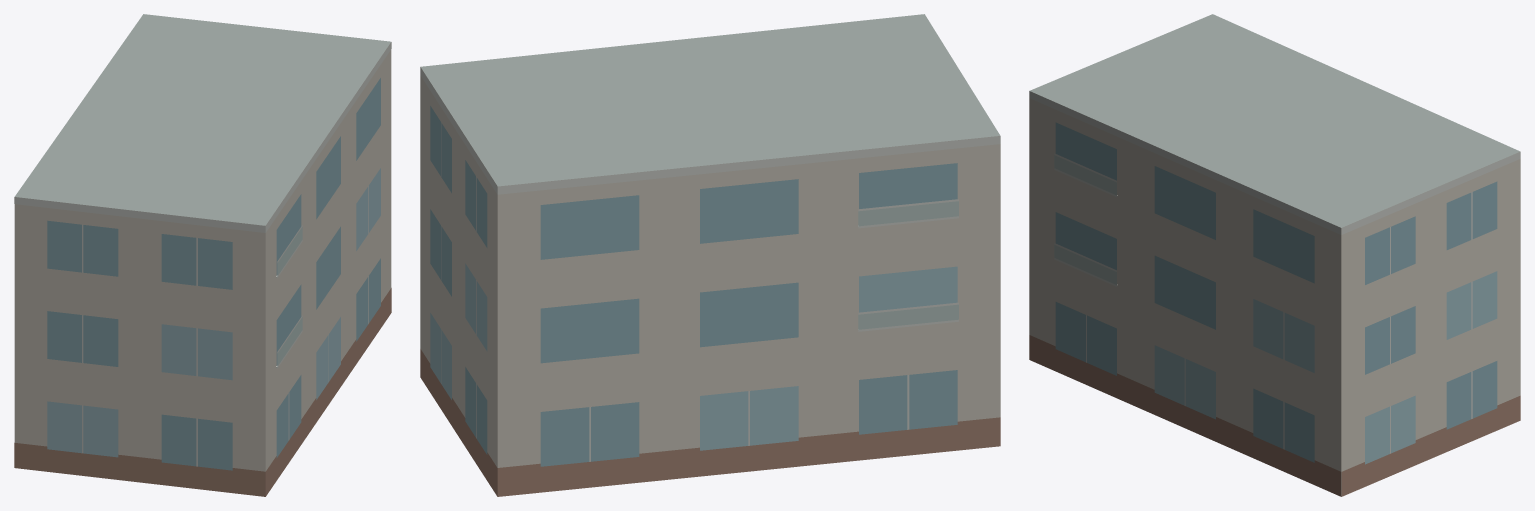
Rendered from survey-upis-32825764.glb.
3 views of the same model, side by side, from view 1: azimuth 30°, elevation 25°; view 2: azimuth 150°, elevation 25°; view 3: azimuth 270°, elevation 25° (orthographic). The views are drawn at different scales.
Visible parts, largest first — view 1: survey-upis-32825764.tmp; view 2: survey-upis-32825764.tmp; view 3: survey-upis-32825764.tmp.
Boxes of the visible parts, <box> form: survey-upis-32825764.tmp: <box>14,14,391,496</box>; survey-upis-32825764.tmp: <box>420,14,1000,496</box>; survey-upis-32825764.tmp: <box>1029,14,1520,496</box>.
Bounding box in the file's own units: 15.62 × 9.15 × 15.16.
